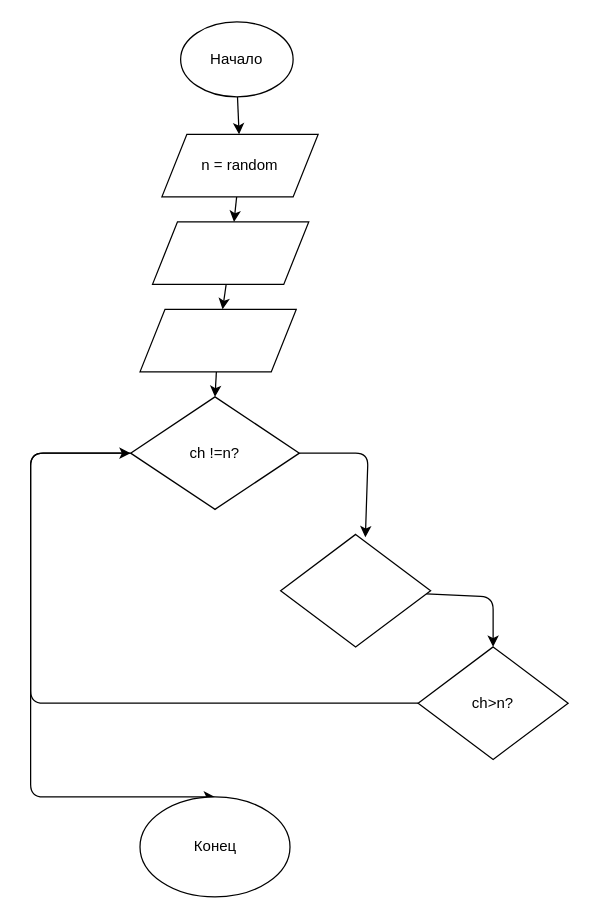
Some shapes in this 590 by 919 pixel diagram are drawn without their labels. The box of each missing label's shape, as (x1, y1, x2, y2) in pixels:
ch<n?: (279, 533, 431, 647)
int ch =0: (139, 308, 296, 372)
int popitka =0: (151, 221, 309, 284)
